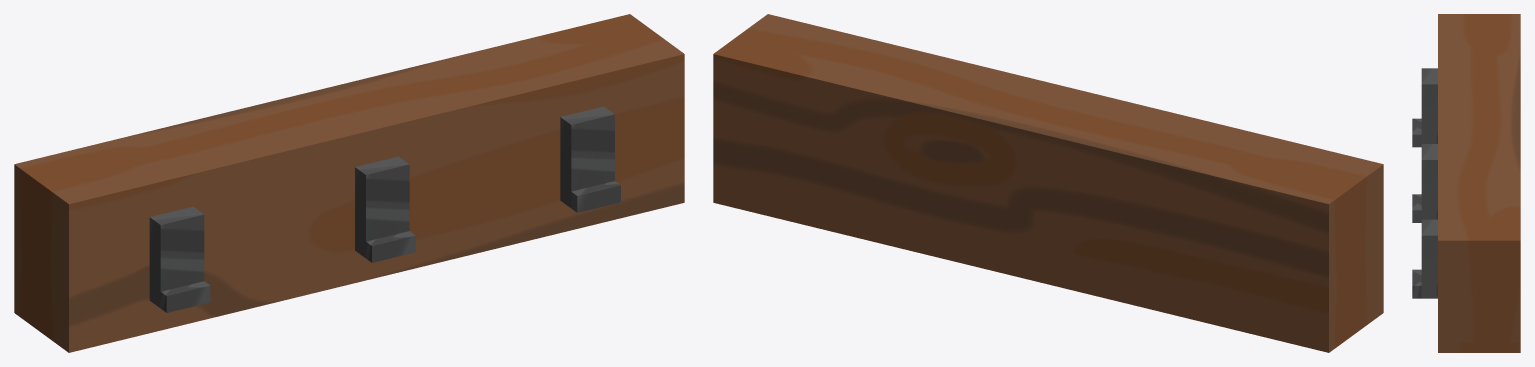
File: Prop_Small_Hanger.glb
3 renders of one model, left to right at view 1: azimuth 30°, elevation 25°; view 2: azimuth 150°, elevation 25°; view 3: azimuth 270°, elevation 25°, orthographic. The views are drawn at different scales.
Visible parts, largest first — view 1: Prop_Small_CoatHanger; view 2: Prop_Small_CoatHanger; view 3: Prop_Small_CoatHanger.
Part boxes in pixels (<box>): Prop_Small_CoatHanger: <box>14,14,684,352</box>; Prop_Small_CoatHanger: <box>713,14,1383,352</box>; Prop_Small_CoatHanger: <box>1412,14,1520,352</box>.
Bounding box in the file's own units: 0.65 × 0.15 × 0.1311.
1 material, 1 textured.
